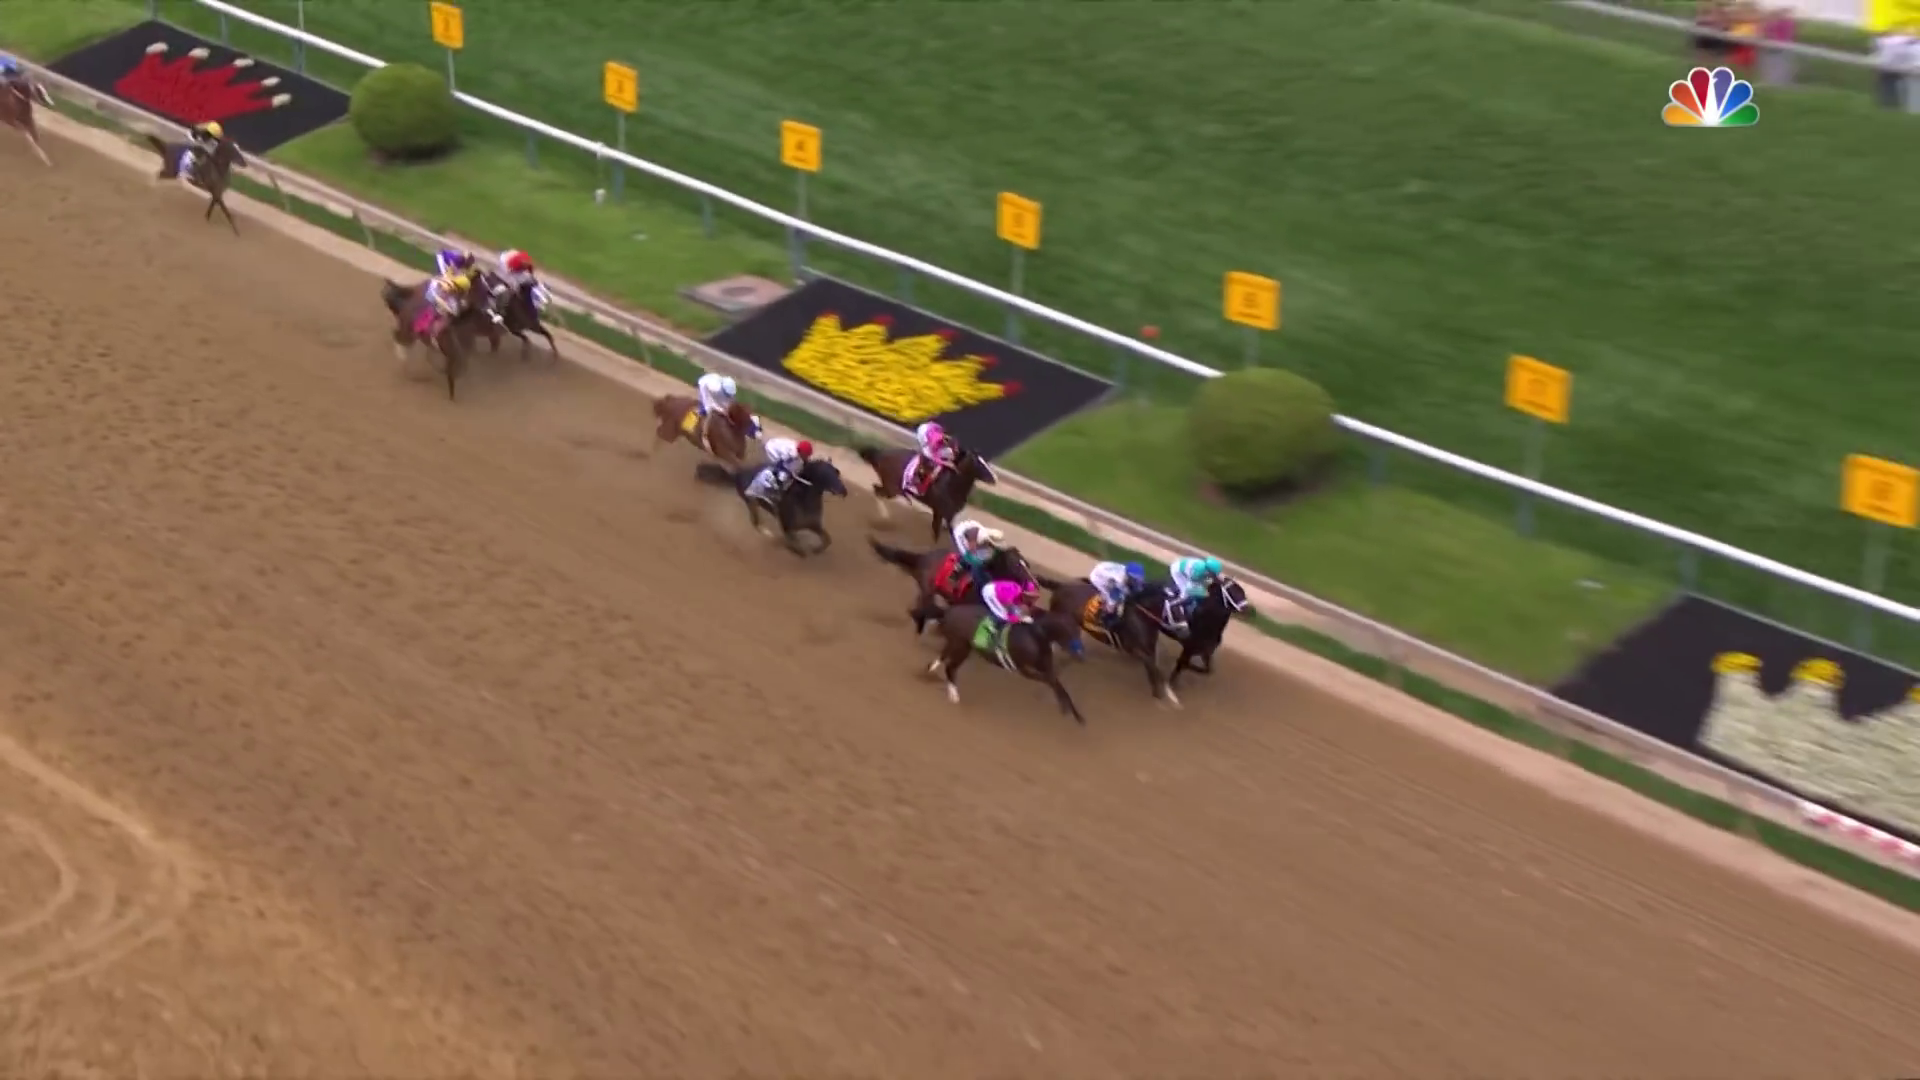jockey: (949, 516, 1009, 585), (1088, 560, 1145, 622), (984, 578, 1042, 636), (1167, 554, 1225, 611), (915, 419, 964, 481), (762, 436, 818, 491), (699, 371, 740, 433), (498, 245, 535, 298), (436, 247, 477, 291), (429, 277, 465, 324), (190, 120, 225, 165)
